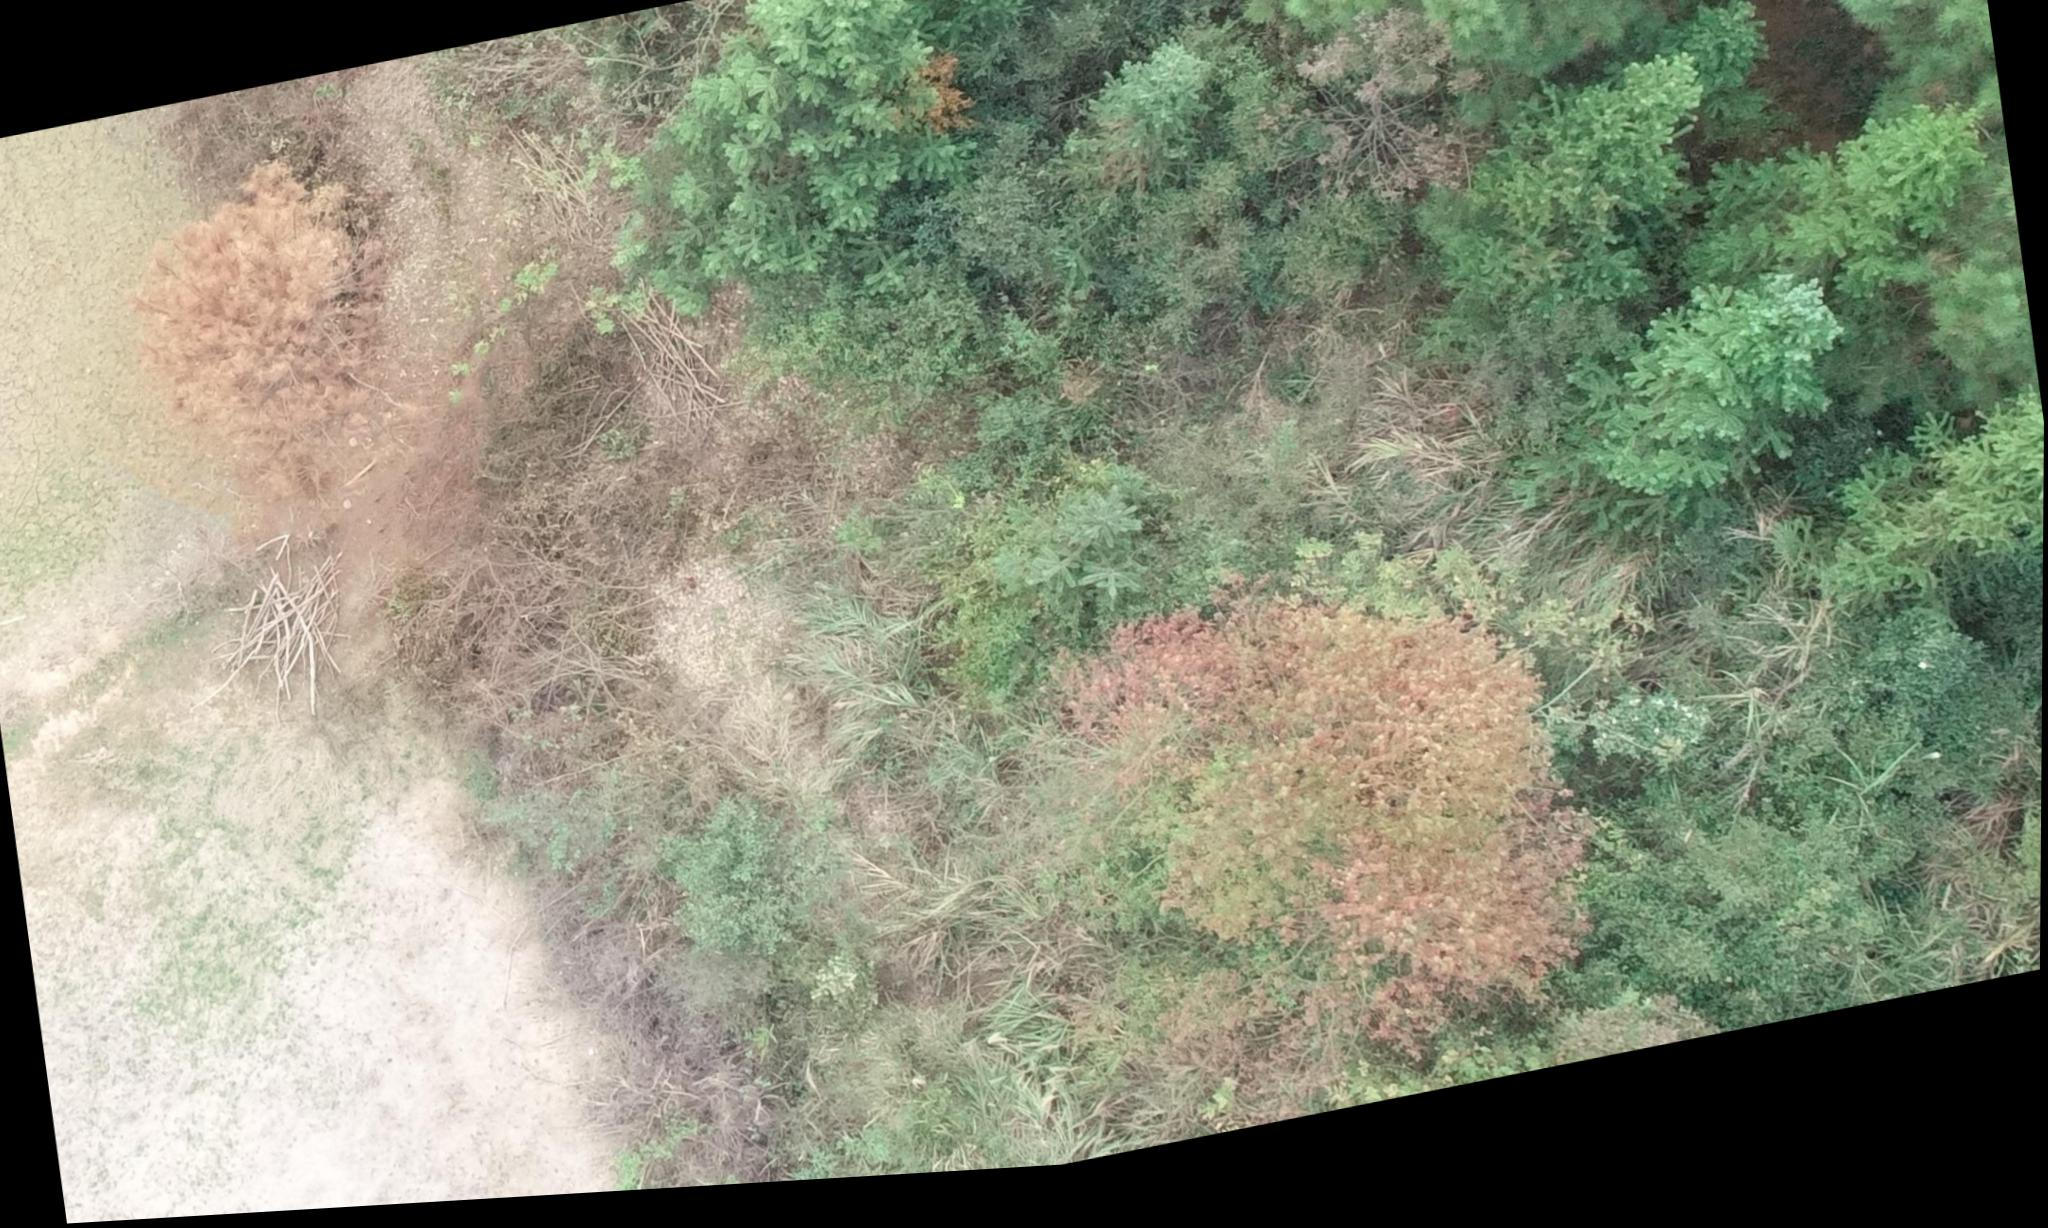dead: (1283, 9, 1491, 234)
heavy: (1045, 535, 1614, 1115), (117, 130, 415, 487)
